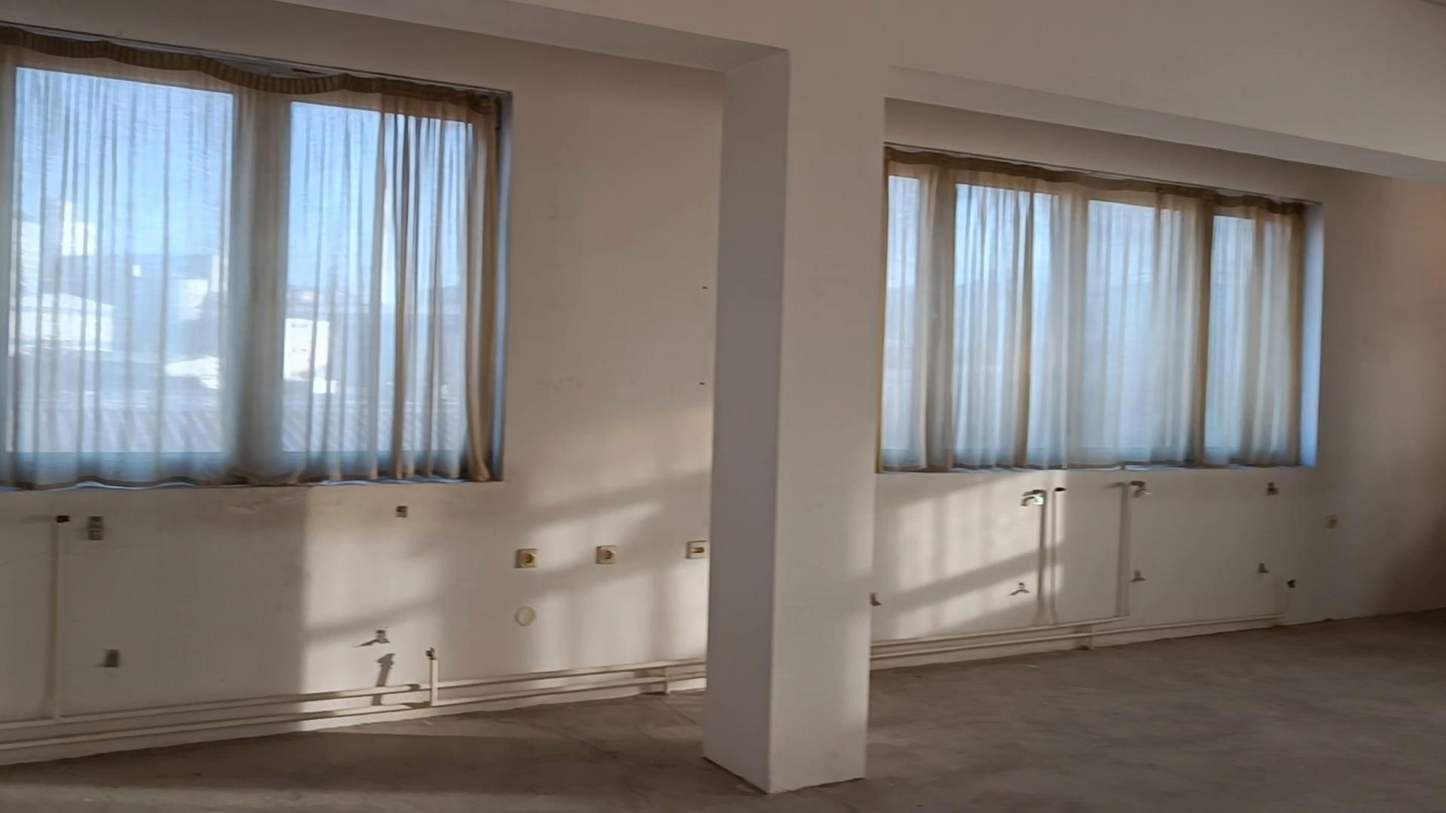floor: (0, 611, 1445, 812)
wall: (284, 3, 1445, 790), (0, 7, 717, 762), (884, 112, 1445, 649)
